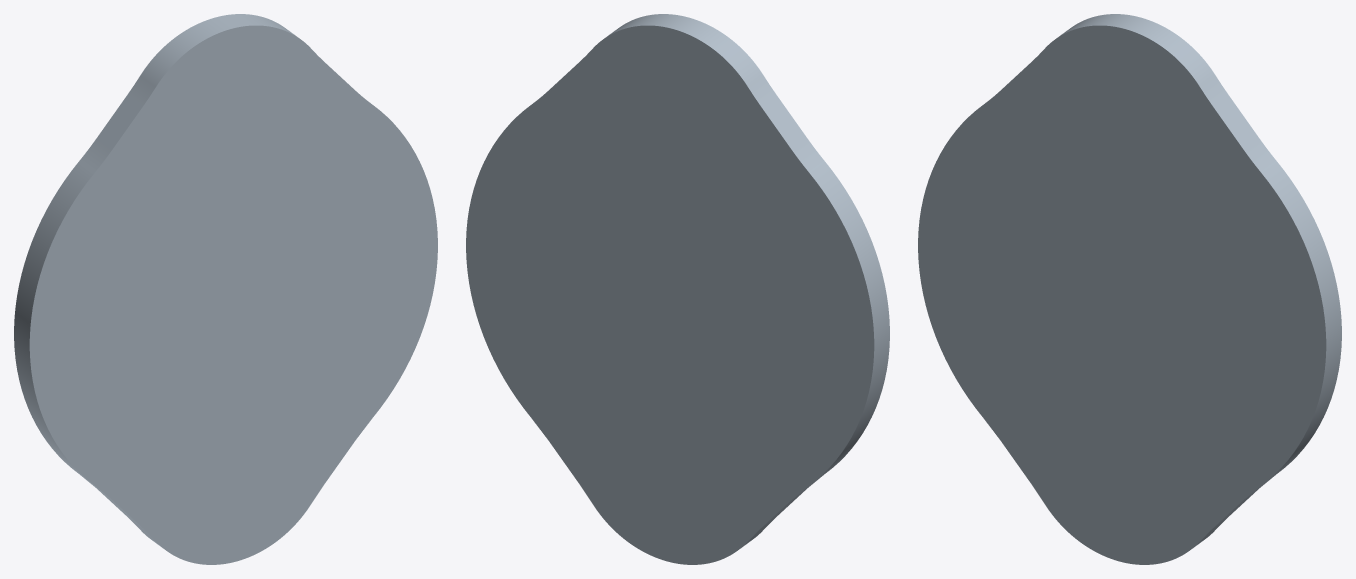
Rendered from inner_rotor_gate_actuator_2.obj.
The picture shows the model from 3 angles, left to right: view 1: azimuth 30°, elevation 25°; view 2: azimuth 150°, elevation 25°; view 3: azimuth 330°, elevation 25°; orthographic projection.
Parts seen in each view (by area): view 1: 1; view 2: 1; view 3: 1.
Part boxes in pixels (x1,y1,x2,y2): 1: [14, 14, 437, 564]; 1: [466, 14, 889, 564]; 1: [918, 14, 1341, 564].
Size of the model in its own units: 74.98 by 93.73 by 5.
